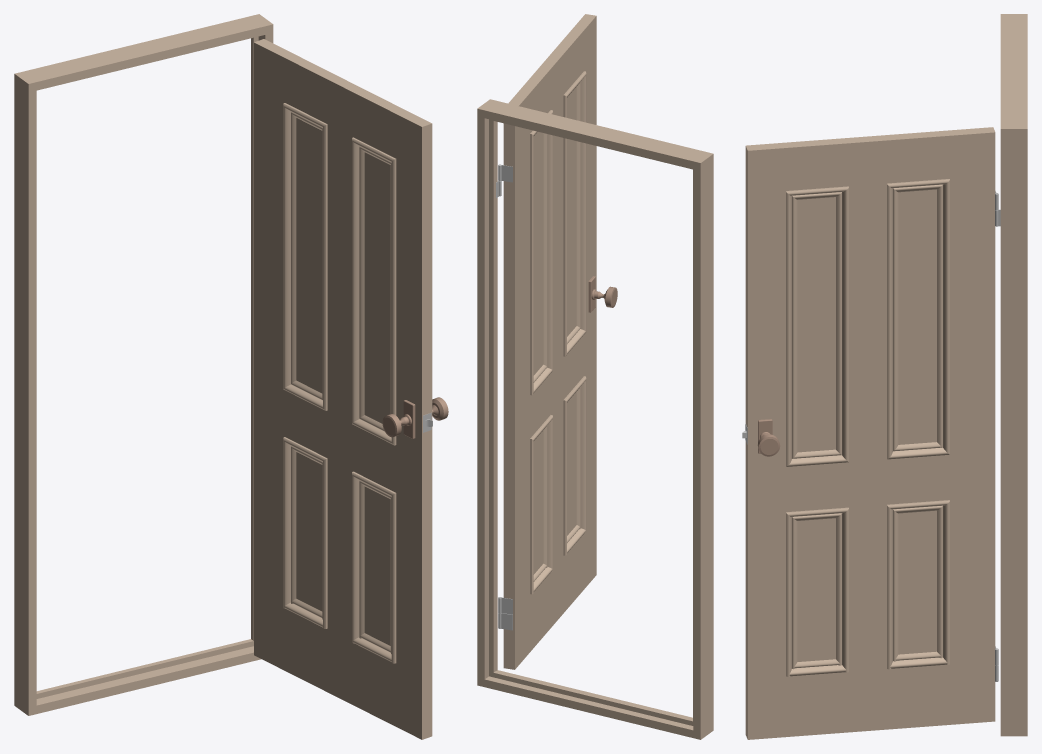
Rendered from 874_door_open.glb.
The picture shows the model from 3 angles, left to right: view 1: azimuth 30°, elevation 25°; view 2: azimuth 150°, elevation 25°; view 3: azimuth 270°, elevation 25°; orthographic projection. The views are drawn at different scales.
Parts seen in each view (by area): view 1: 戸, ドア枠; view 2: 戸, ドア枠; view 3: 戸, ドア枠.
Part boxes in pixels (x1,y1,x2,y2): 戸: (254,39,448,739); ドア枠: (14,14,273,715); 戸: (498,14,617,669); ドア枠: (477,99,713,739); 戸: (742,127,998,739); ドア枠: (995,14,1027,736).
Size of the model in its own units: 0.9015 by 1.85 by 0.7883.
